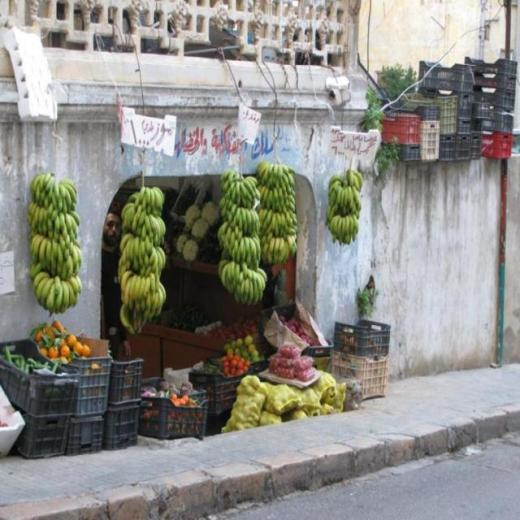Banana: (107, 185, 168, 342), (28, 172, 83, 314), (217, 170, 268, 306), (254, 162, 296, 264), (324, 168, 362, 246)
